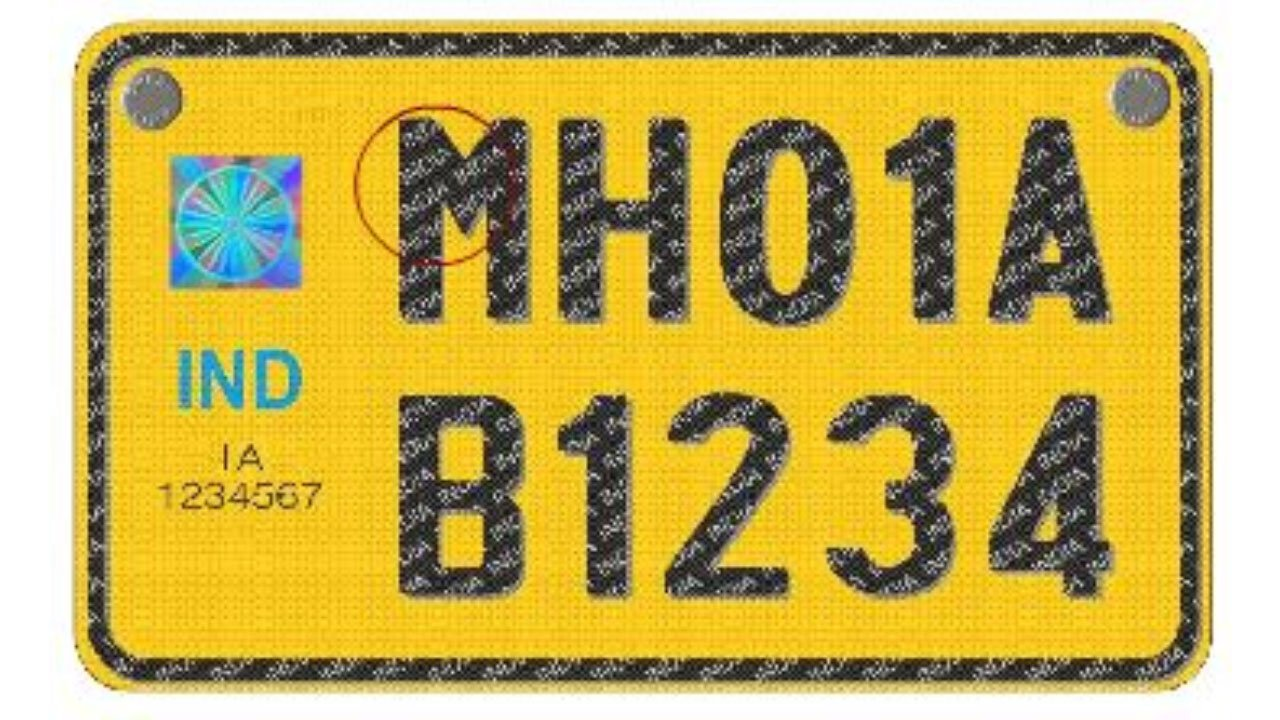doublelinenumberplate: (71, 14, 1218, 700)
